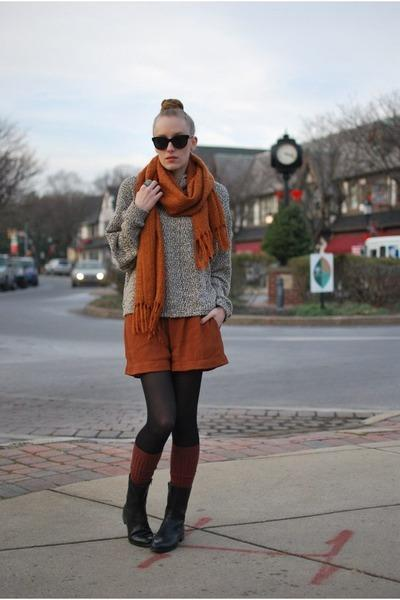jacket: (100, 176, 251, 321)
shoe: (120, 501, 184, 553)
shorts: (124, 312, 227, 375)
sunglass: (152, 134, 179, 150)
